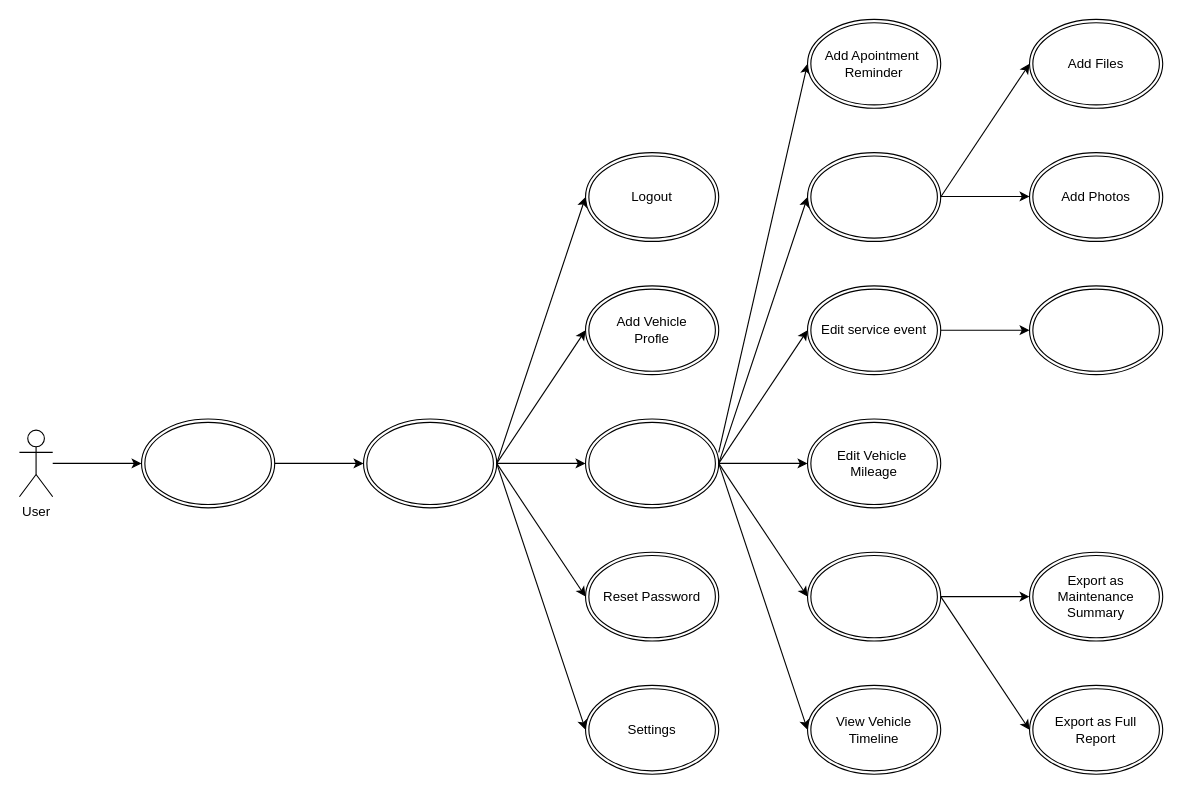
Image size: 1182x794. Some labels were removed from this diagram. The centre of each missing label's shape, as x and y in pixels:
Create Service Event: point (873, 196)
Delete Event: point (1095, 330)
Export: point (873, 596)
Login: point (429, 463)
Register: point (207, 463)
Vehicle Profile: point (651, 463)
